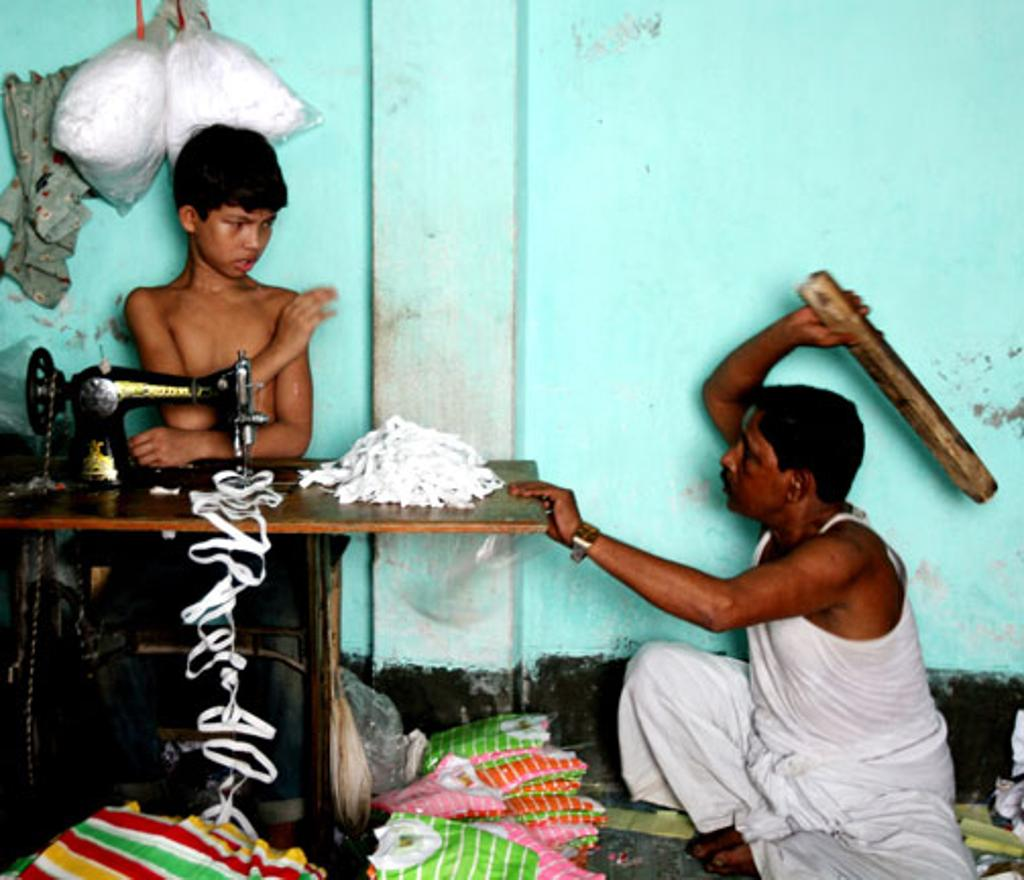face: (718, 404, 800, 516), (206, 188, 270, 276)
